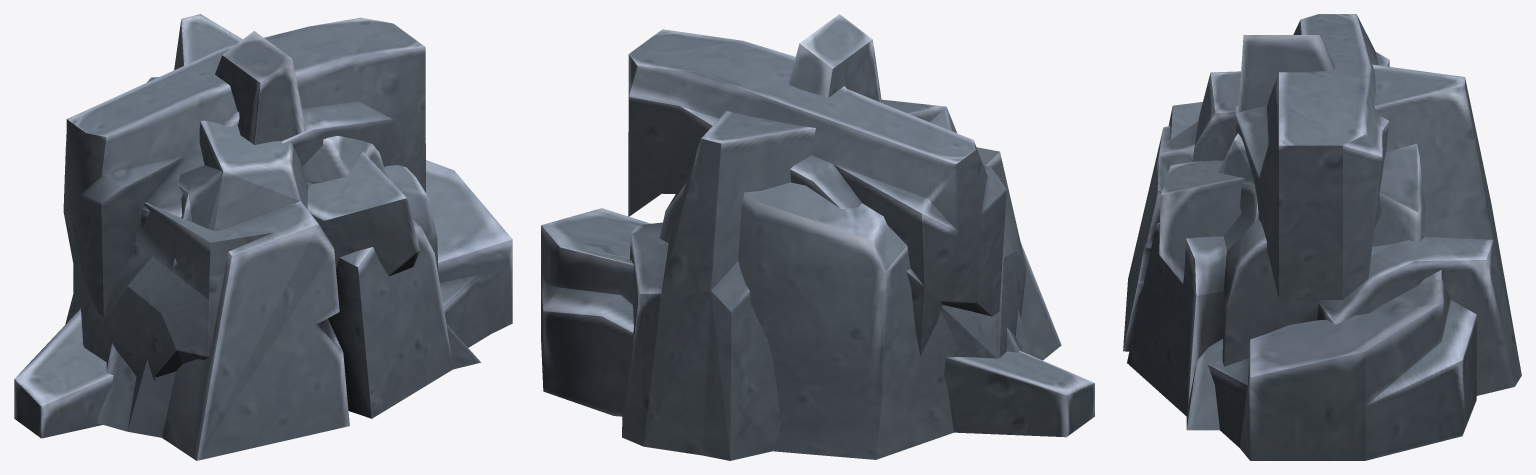
Rendered from Rock03.FBX.
3 renders of one model, left to right at view 1: azimuth 30°, elevation 25°; view 2: azimuth 150°, elevation 25°; view 3: azimuth 270°, elevation 25°, orthographic. The views are drawn at different scales.
Parts seen in each view (by area): view 1: Rock_01, Rock_06, Rock_07, Rock_02, Rock_05; view 2: Rock_07, Rock_06, Rock_01, Rock_02, Rock_05; view 3: Rock_01, Rock_02, Rock_06, Rock_07, Rock_05.
Boxes of the visible parts, left/top/right/bottom form: Rock_01: left=97, top=14, right=452, bottom=460; Rock_06: left=63, top=17, right=425, bottom=316; Rock_07: left=65, top=77, right=480, bottom=381; Rock_02: left=14, top=160, right=512, bottom=438; Rock_05: left=215, top=31, right=305, bottom=144; Rock_07: left=659, top=147, right=1026, bottom=459; Rock_06: left=628, top=29, right=1006, bottom=356; Rock_01: left=622, top=99, right=1061, bottom=460; Rock_02: left=541, top=208, right=1094, bottom=437; Rock_05: left=788, top=14, right=881, bottom=102; Rock_01: left=1123, top=64, right=1521, bottom=416; Rock_02: left=1208, top=270, right=1476, bottom=460; Rock_06: left=1236, top=14, right=1389, bottom=299; Rock_07: left=1159, top=102, right=1425, bottom=430; Rock_05: left=1238, top=35, right=1335, bottom=112.
Size of the model in its own units: 586 by 384 by 435.
